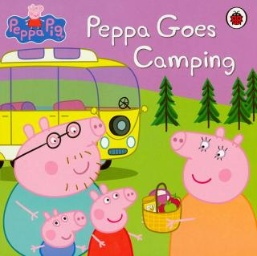Peppa: (87, 183, 143, 256)
